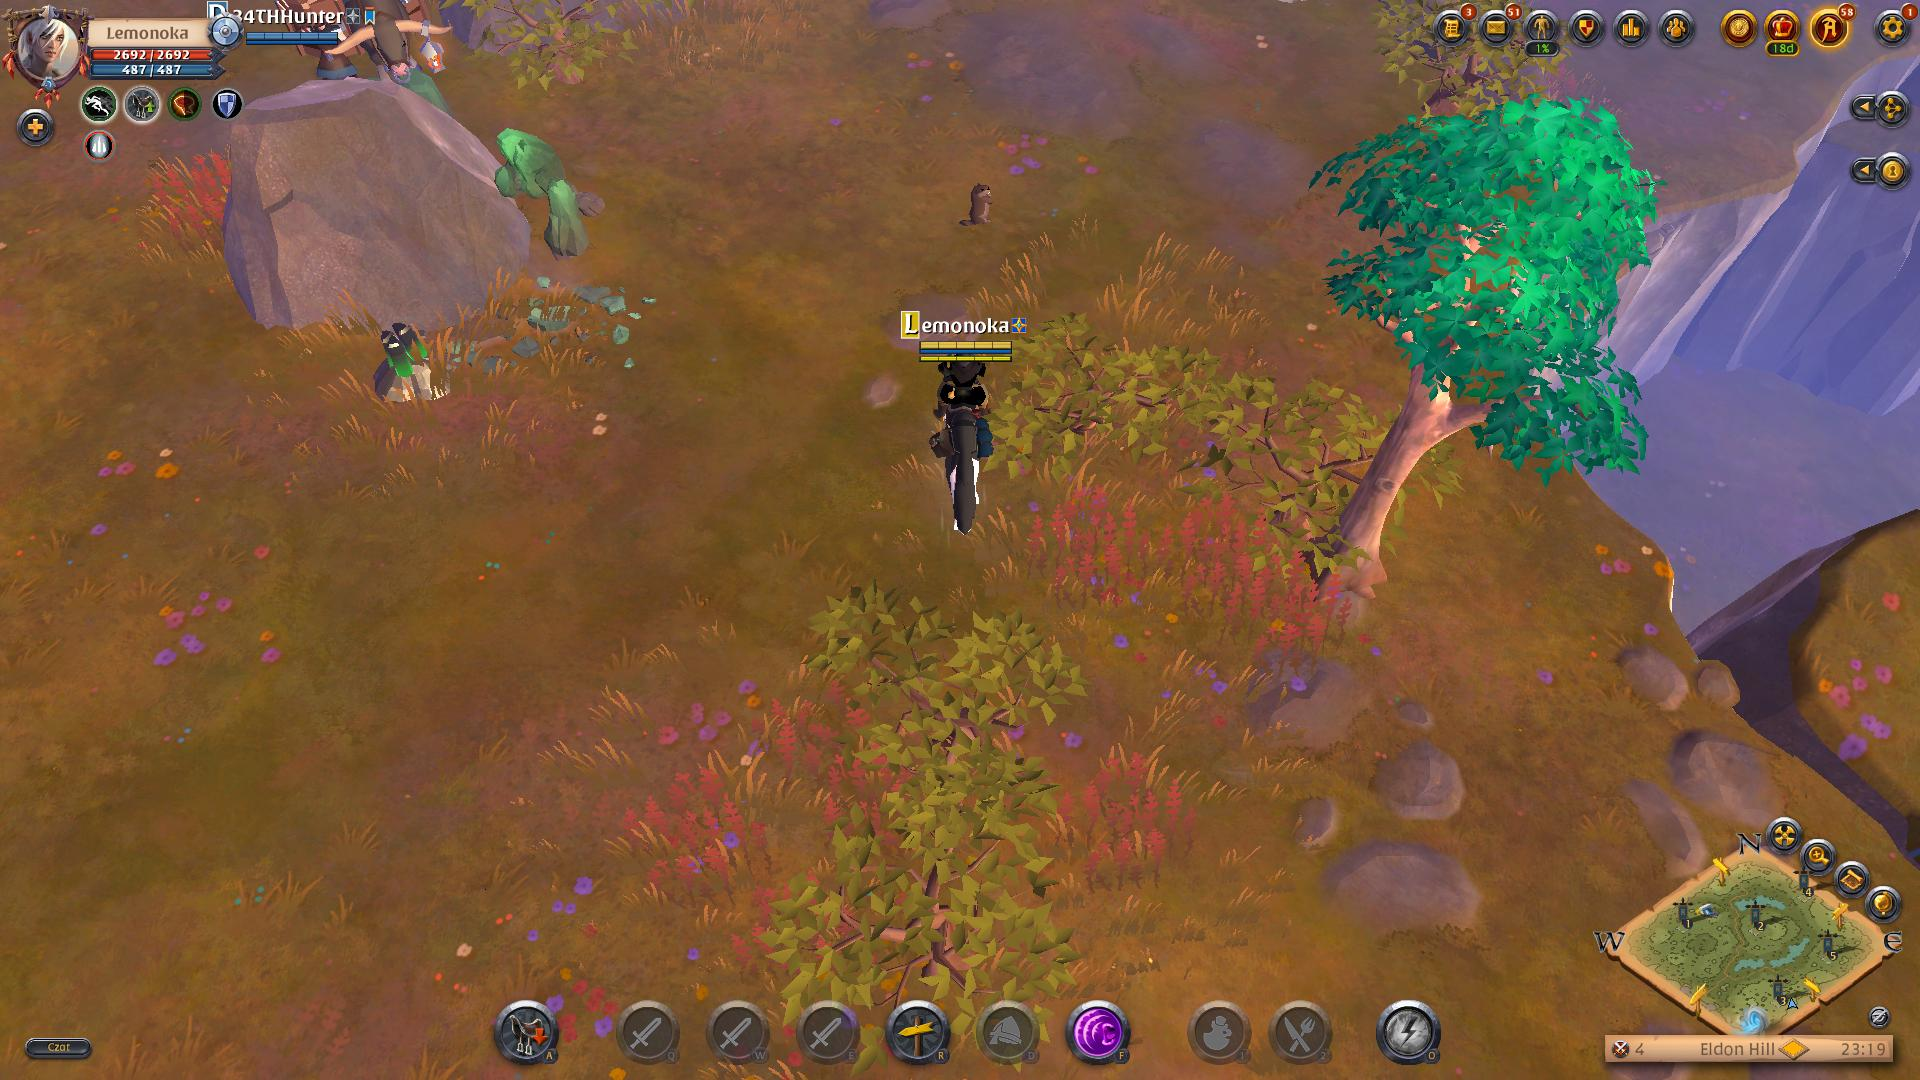wood tier 3: (1313, 87, 1659, 485), (368, 316, 460, 404)
